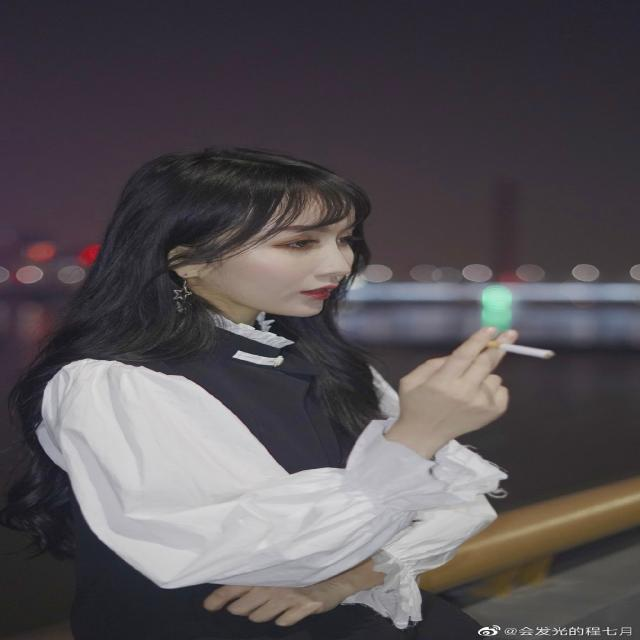cigarette: (487, 338, 561, 361)
